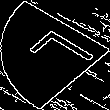L_SE: (13, 27, 97, 83)
